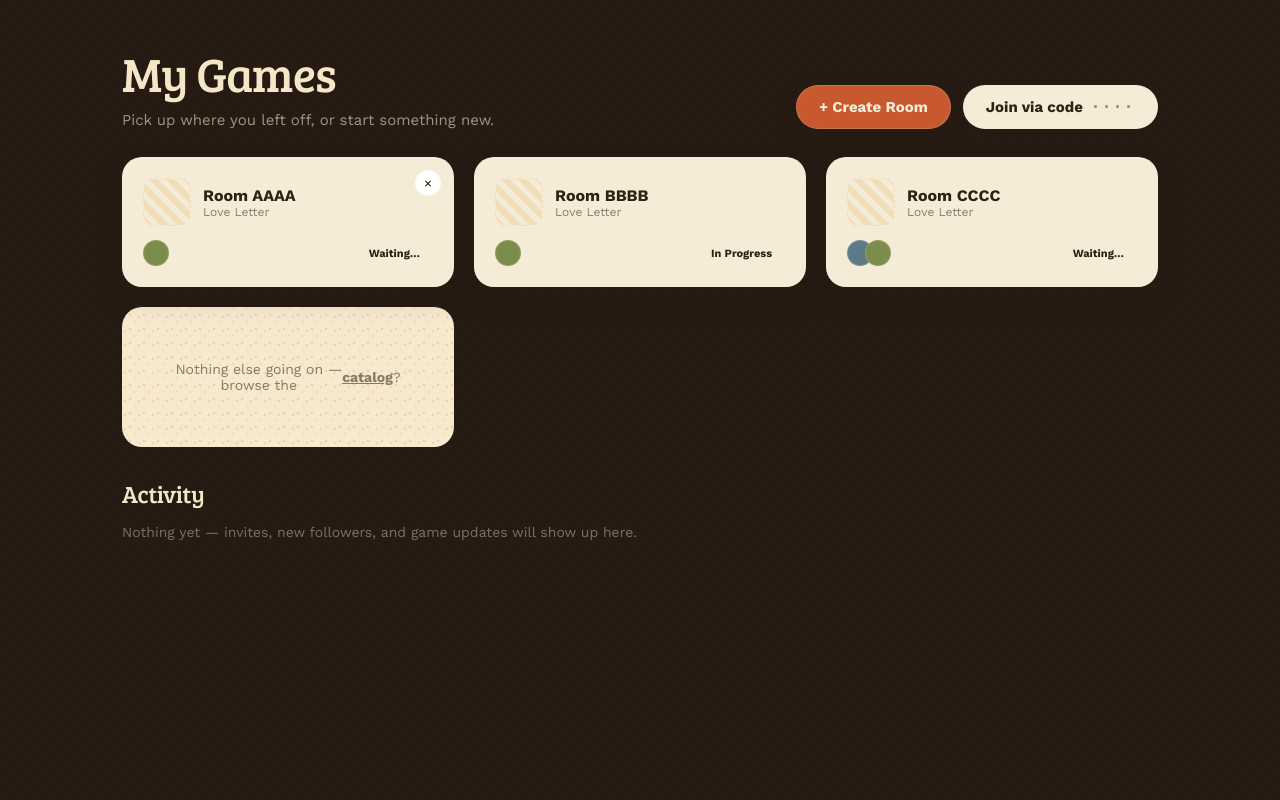
DashboardContainer › Cancel closes the modal without deleting
Click the button named "Delete room" at (428, 183), box x1=415 y1=170 x2=441 y2=196
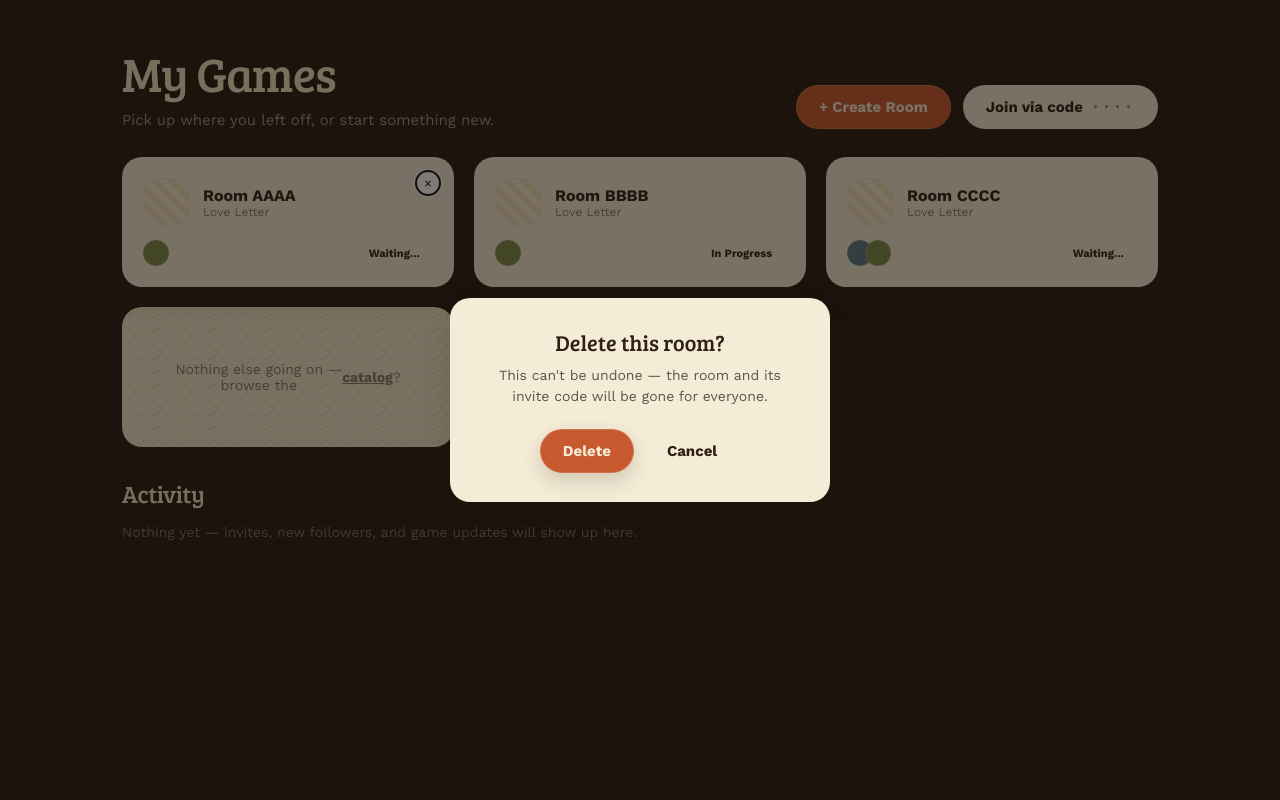
Click the button "Cancel" at (692, 451), box x1=644 y1=429 x2=740 y2=473
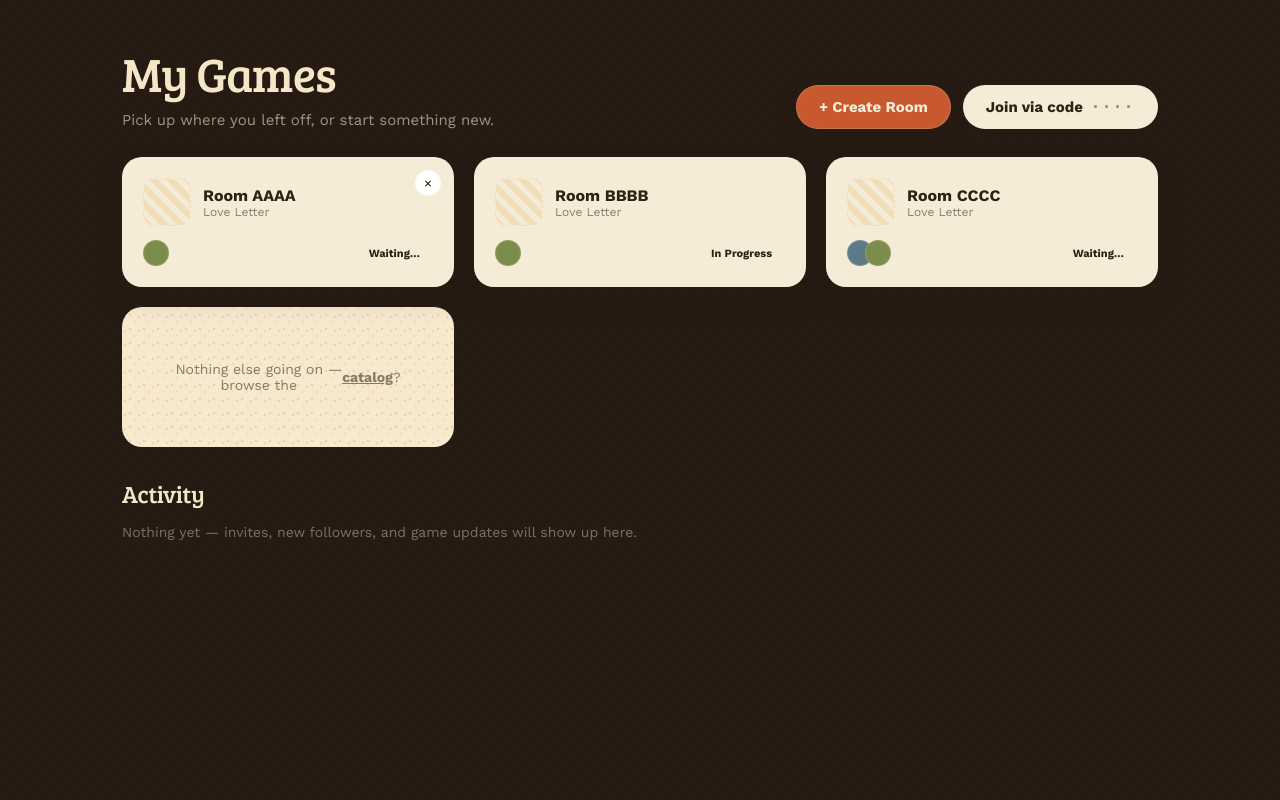
Result: the text "Delete this room?" is gone
